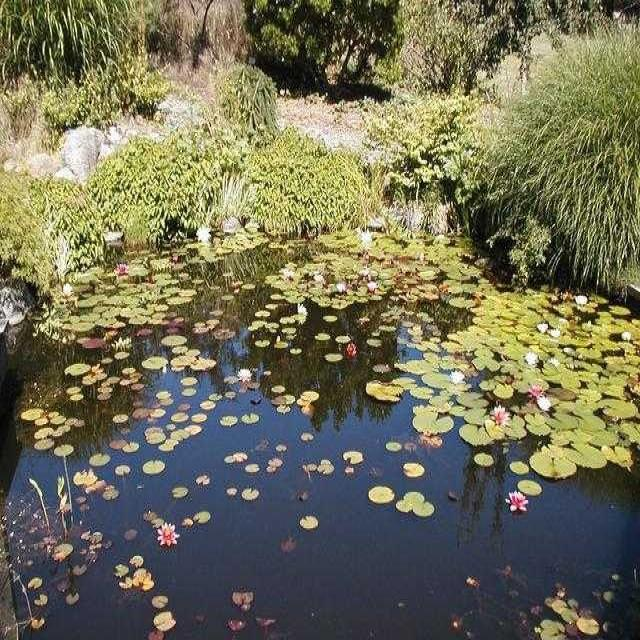Ponds: (7, 212, 640, 636)
